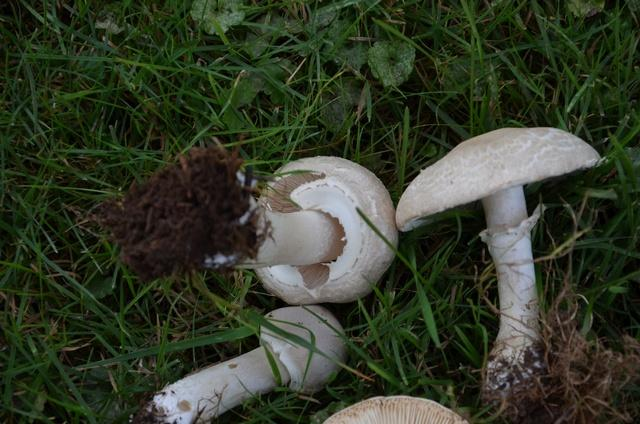Non-edible Mushroom: (394, 124, 603, 404), (135, 303, 348, 423), (244, 154, 399, 304)
